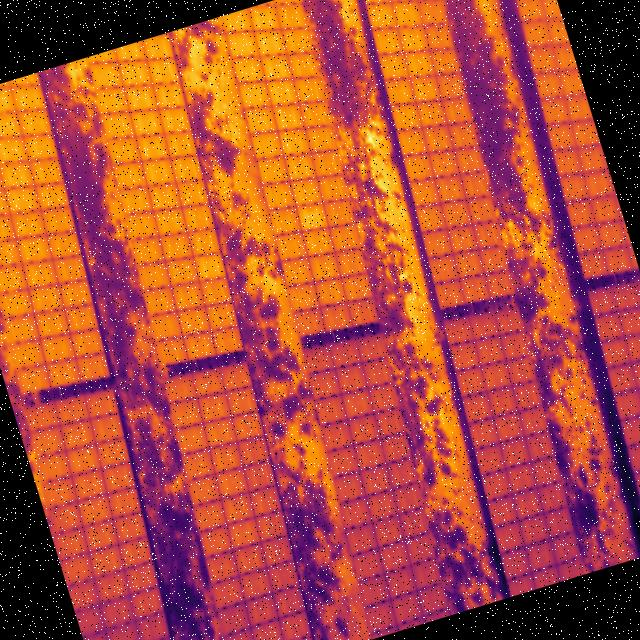Hotspot: (298, 200, 331, 232)
